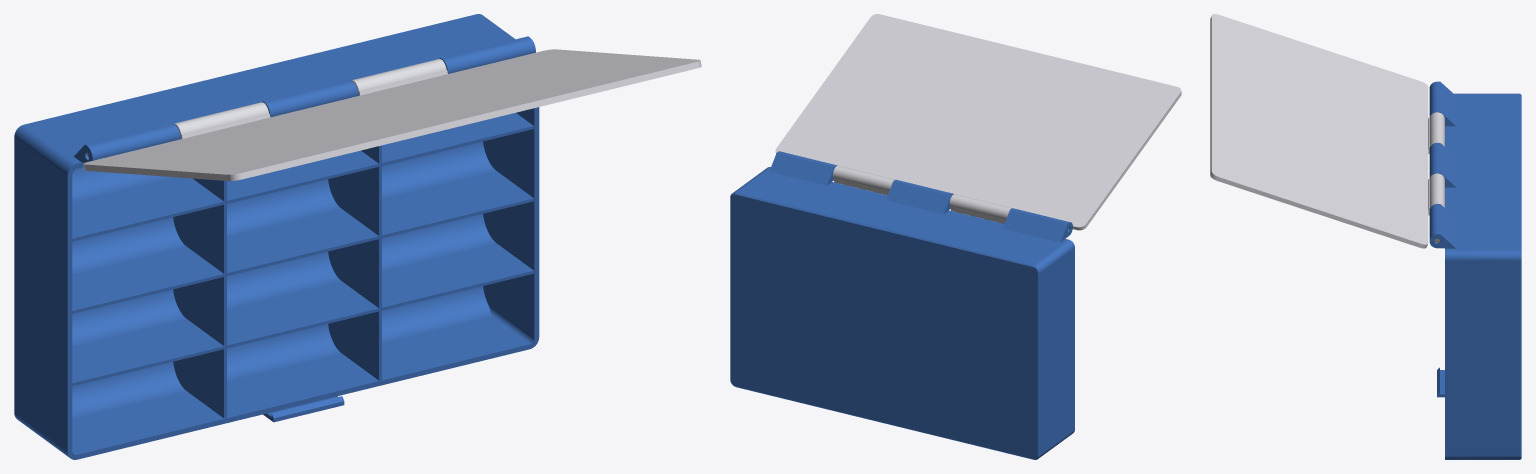
The model's file is variant-COLS_3-ROWS_4.glb.
3 views of the same model, side by side, from view 1: azimuth 30°, elevation 25°; view 2: azimuth 150°, elevation 25°; view 3: azimuth 270°, elevation 25° (orthographic). The views are drawn at different scales.
Parts seen in each view (by area): view 1: 0:Kasten, 1:Deckel; view 2: 0:Kasten, 1:Deckel; view 3: 1:Deckel, 0:Kasten.
Part boxes in pixels (left/top/right/bottom): 0:Kasten: left=14, top=14, right=539, bottom=459; 1:Deckel: left=83, top=49, right=701, bottom=181; 0:Kasten: left=730, top=151, right=1074, bottom=459; 1:Deckel: left=775, top=14, right=1181, bottom=230; 1:Deckel: left=1210, top=14, right=1444, bottom=248; 0:Kasten: left=1429, top=81, right=1521, bottom=459.
Bounding box in the file's own units: 200 × 167 × 162.
